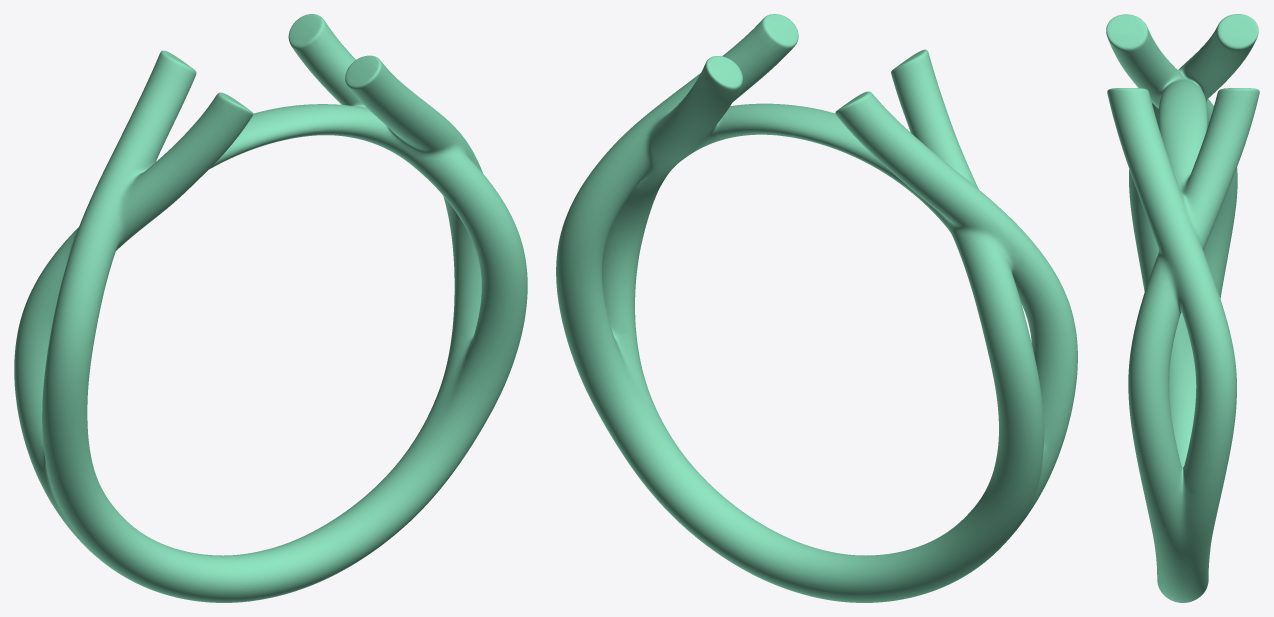
3 renders of one model, left to right at view 1: azimuth 30°, elevation 25°; view 2: azimuth 150°, elevation 25°; view 3: azimuth 270°, elevation 25°, orthographic. The views are drawn at different scales.
Parts seen in each view (by area): view 1: Metal02; view 2: Metal02; view 3: Metal02.
Part boxes in pixels (x1,y1,x2,y2): Metal02: (14, 14, 527, 602); Metal02: (556, 14, 1077, 602); Metal02: (1106, 14, 1259, 602).
Bounding box in the file's own units: 21.15 × 22.53 × 5.95.
